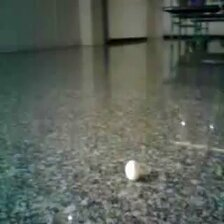w: (124, 160, 142, 180)
